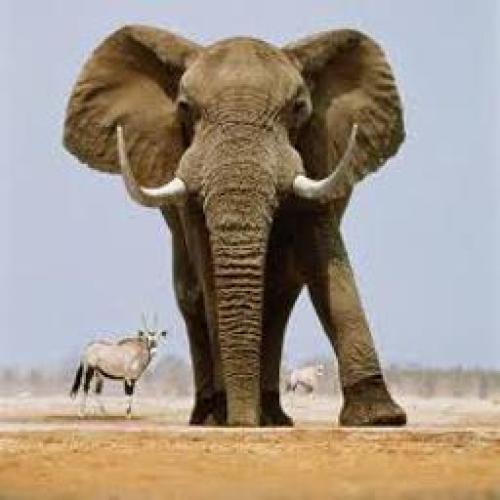african_elephant-endangered: (64, 22, 410, 431)
